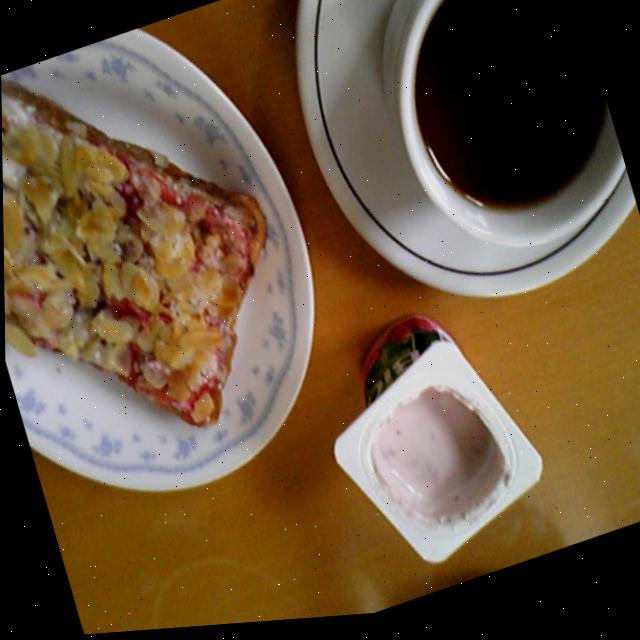面包点心: (0, 4, 317, 479)
